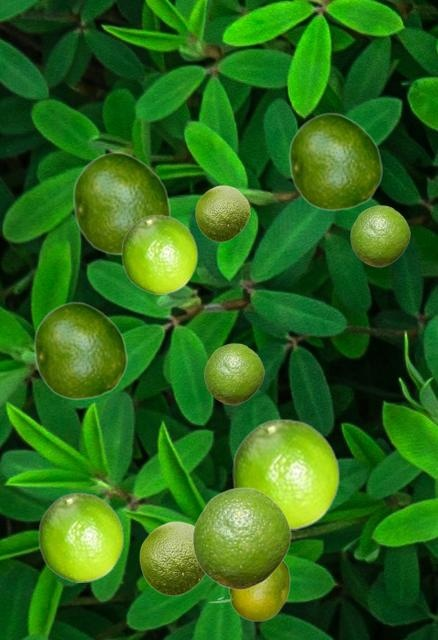calamansi: (232, 418, 339, 529), (72, 151, 170, 254), (192, 487, 290, 589), (288, 112, 382, 210), (33, 301, 127, 399), (38, 492, 123, 581), (121, 214, 197, 293), (139, 521, 205, 595), (208, 560, 289, 620), (350, 205, 409, 266), (204, 343, 263, 404), (195, 185, 249, 241)
